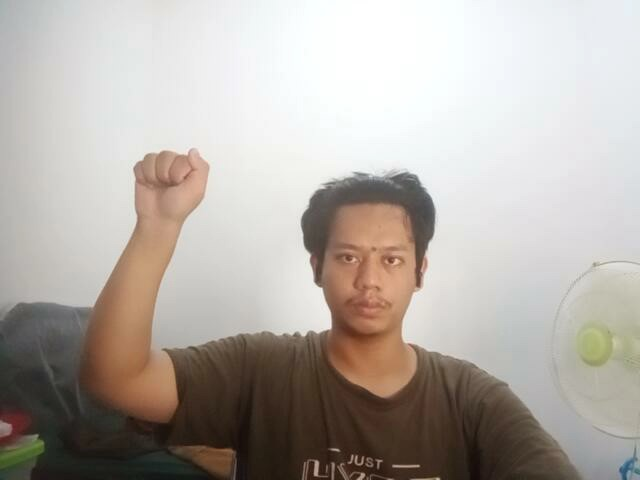A: (118, 141, 223, 229)
